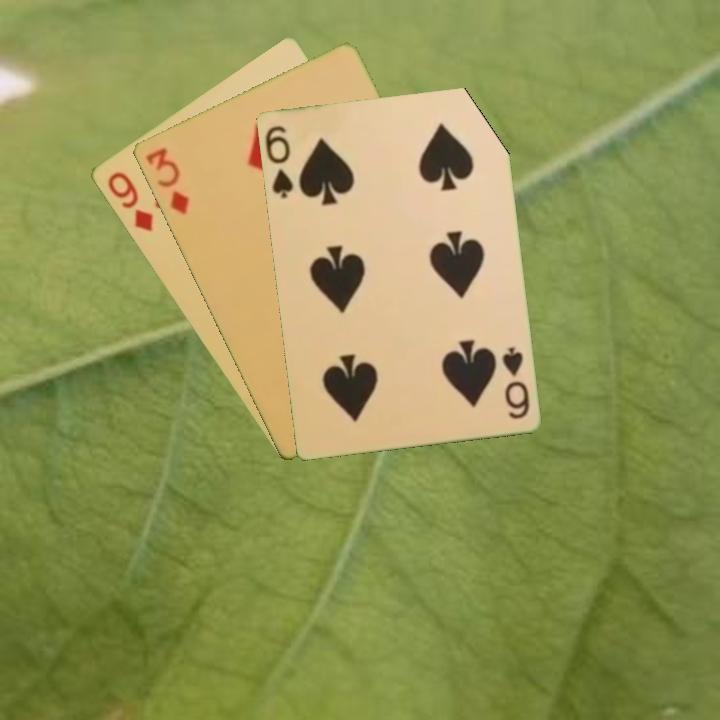3d: (141, 144, 192, 217)
6s: (261, 122, 296, 201), (498, 343, 532, 422)
9d: (103, 168, 156, 235)
